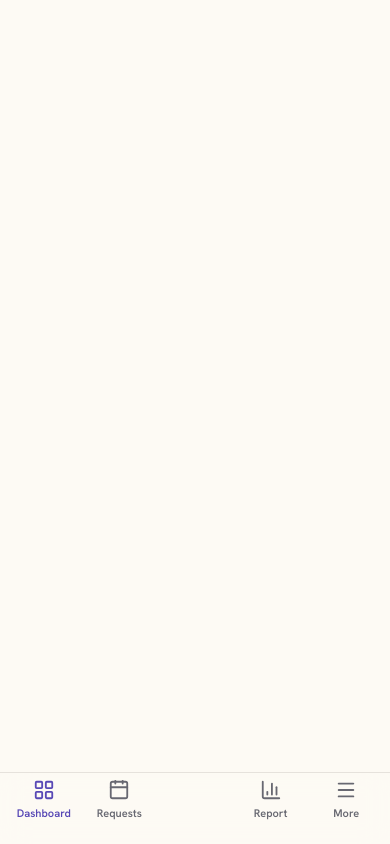
BottomBar › create buttons › adds New group event when a group can create
Click the button "More". click: (346,808)
box: [308,773,384,843]
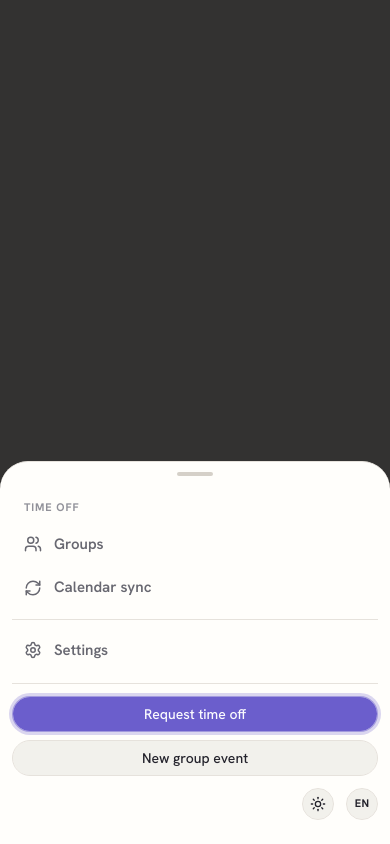
Expected: the button "Request time off" is shown, [12,696,378,732]
Expected: the button "New group event" is shown, [12,740,378,776]
